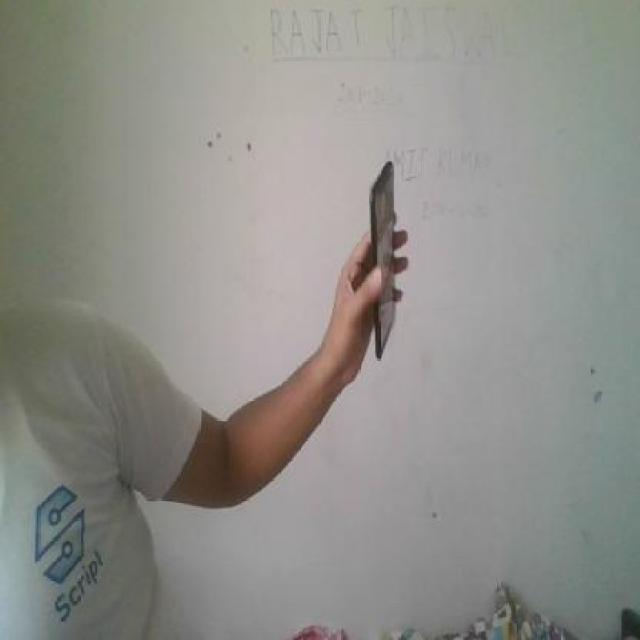Phone: (365, 158, 403, 366)
